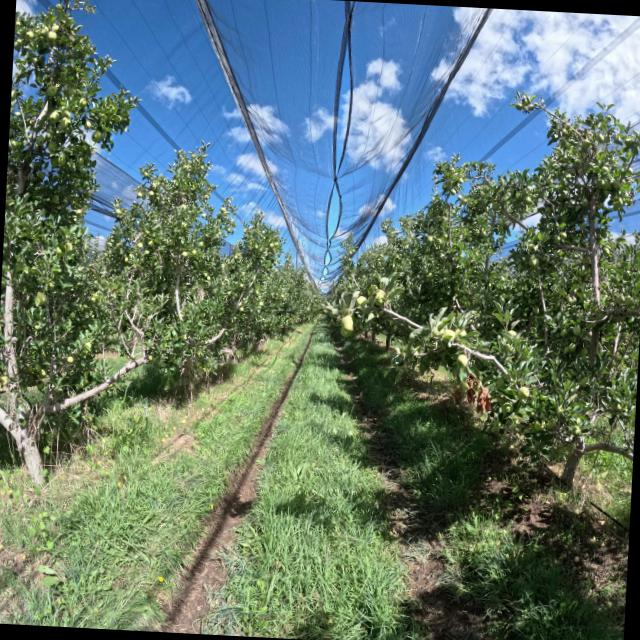-FireBlight-: (454, 373, 498, 423)
